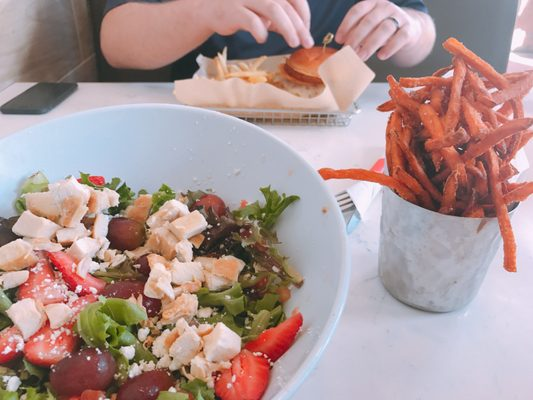sandwich: (0, 83, 79, 116)
sushi: (1, 102, 353, 400)
